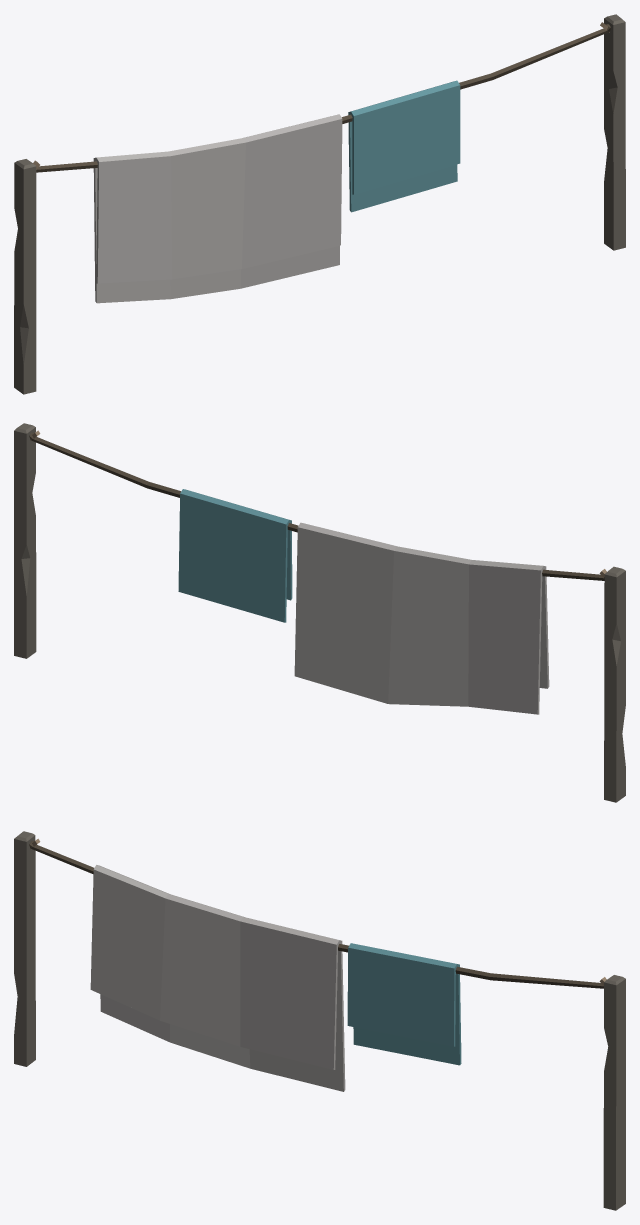
File: SM_Prop_Washingline_02.fbx
3 renders of one model, top to bottom at view 1: azimuth 30°, elevation 25°; view 2: azimuth 150°, elevation 25°; view 3: azimuth 330°, elevation 25°, orthographic.
Visible parts, largest first — view 1: SM_Prop_Washingline_02, SM_Prop_Washingline_Poles_02; view 2: SM_Prop_Washingline_02, SM_Prop_Washingline_Poles_02; view 3: SM_Prop_Washingline_02, SM_Prop_Washingline_Poles_02.
Part boxes in pixels (left/top/right/bottom): SM_Prop_Washingline_02: left=33, top=22, right=610, bottom=303; SM_Prop_Washingline_Poles_02: left=14, top=14, right=625, bottom=394; SM_Prop_Washingline_02: left=29, top=430, right=606, bottom=714; SM_Prop_Washingline_Poles_02: left=14, top=423, right=625, bottom=802; SM_Prop_Washingline_02: left=29, top=838, right=606, bottom=1091; SM_Prop_Washingline_Poles_02: left=14, top=831, right=625, bottom=1210.
Size of the model in its own units: 708 by 255 by 25.14.
